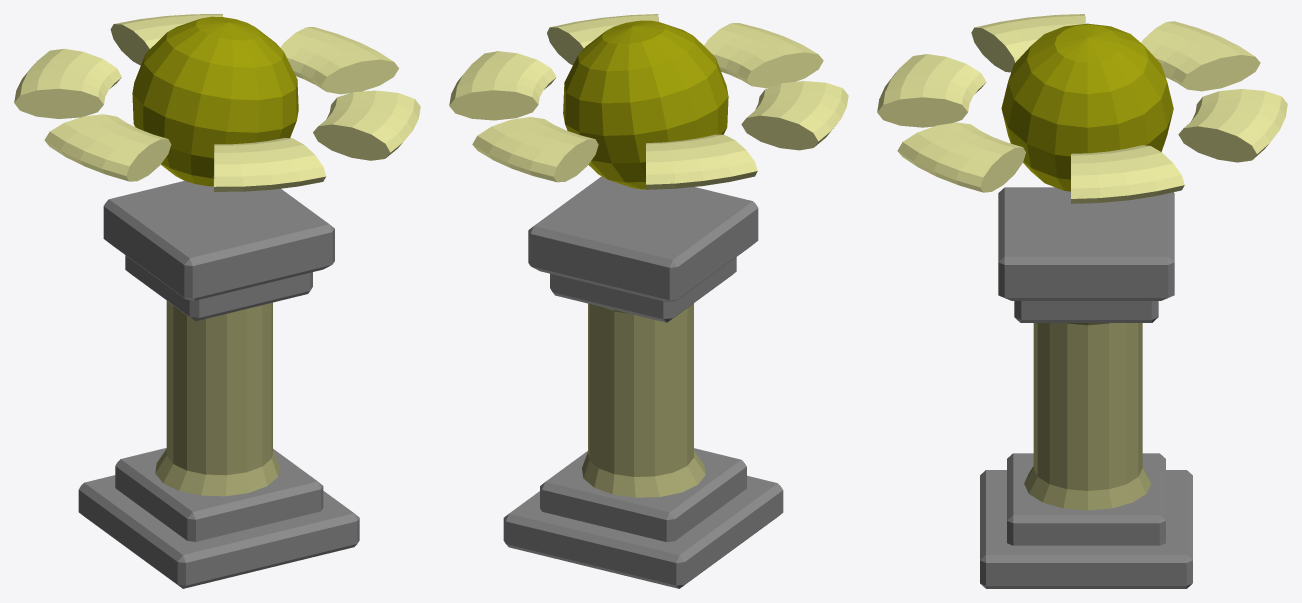
The model's file is solar.fbx.
3 views of the same model, side by side, from view 1: azimuth 30°, elevation 25°; view 2: azimuth 150°, elevation 25°; view 3: azimuth 270°, elevation 25° (orthographic).
Parts seen in each view (by area): view 1: Base, Cube.001, Cube; view 2: Base, Cube.001, Cube; view 3: Base, Cube.001, Cube.
Part boxes in pixels (x1,y1,x2,y2): Base: (78, 180, 359, 588); Cube.001: (14, 14, 420, 191); Cube: (132, 16, 298, 186); Base: (503, 176, 783, 588); Cube.001: (449, 14, 848, 189); Cube: (563, 20, 728, 189); Base: (980, 187, 1192, 588); Cube.001: (877, 14, 1287, 203); Cube: (1001, 23, 1173, 191).
Bounding box in the file's own units: 108 × 151 × 109.
